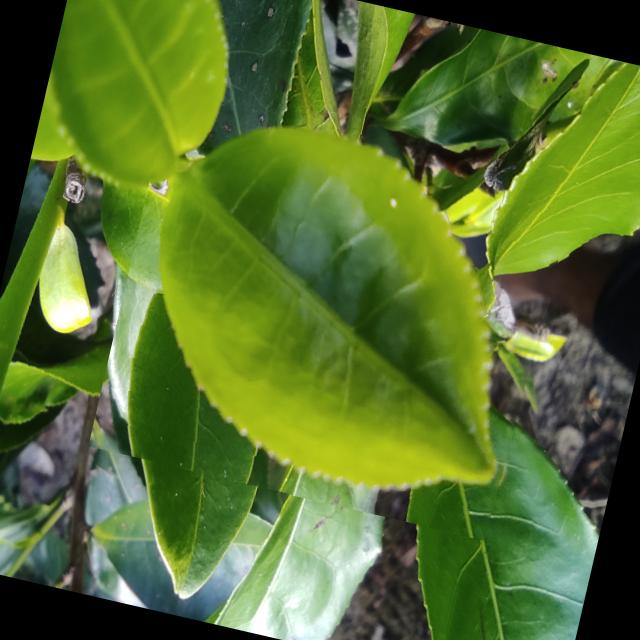Category B(2-4 days): (86, 75, 581, 543)
